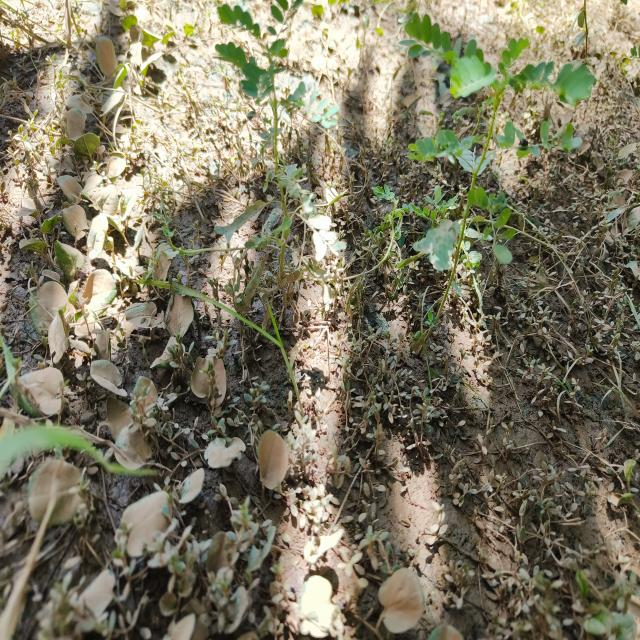weed: (400, 28, 613, 321), (211, 0, 309, 185)
